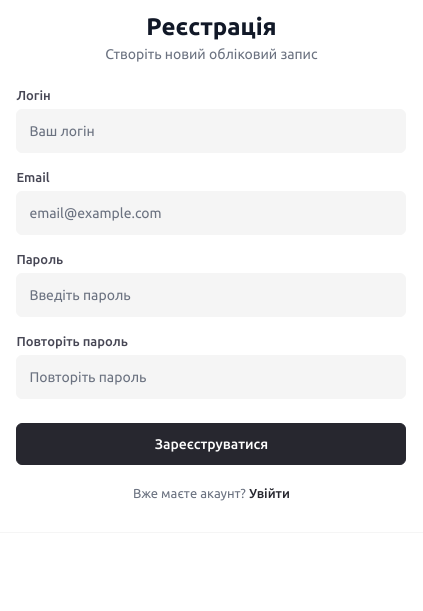
Test: Auth integration › Registration: не реєструє користувача із зайнятим логіном
In the field labelled "Логін": point(211, 131) left=16, top=109, right=406, bottom=153, type "testuser"
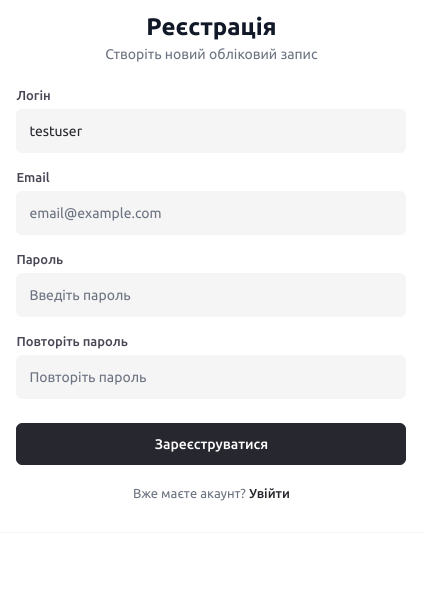
In the field labelled "Email": point(211, 213) left=16, top=191, right=406, bottom=235, type "test@example.com"
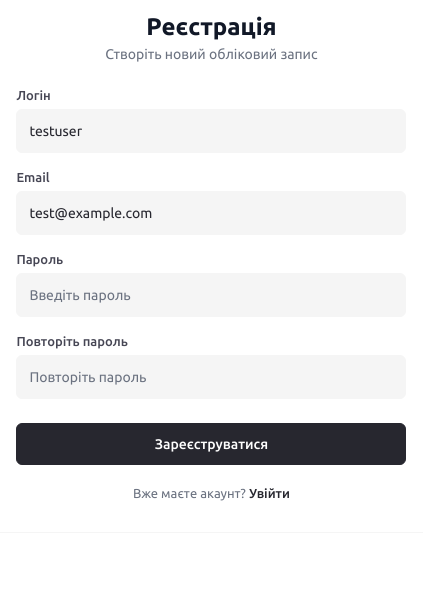
In the password field labelled "Пароль": point(211, 295) left=16, top=273, right=406, bottom=317, type "Password123"
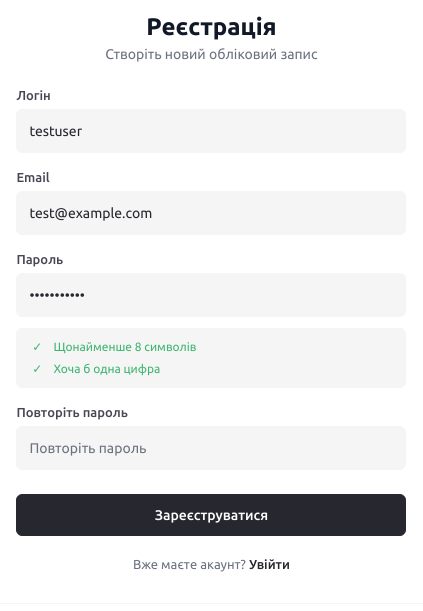
In the password field labelled "Повторіть пароль": point(211, 448) left=16, top=426, right=406, bottom=470, type "Password123"
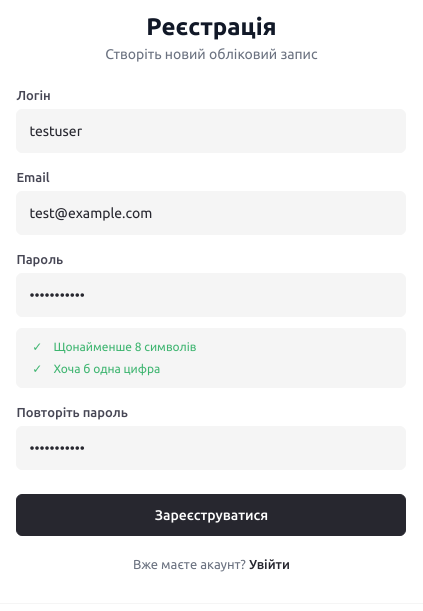
Click the button "Зареєструватися": point(211, 515) left=16, top=494, right=406, bottom=536
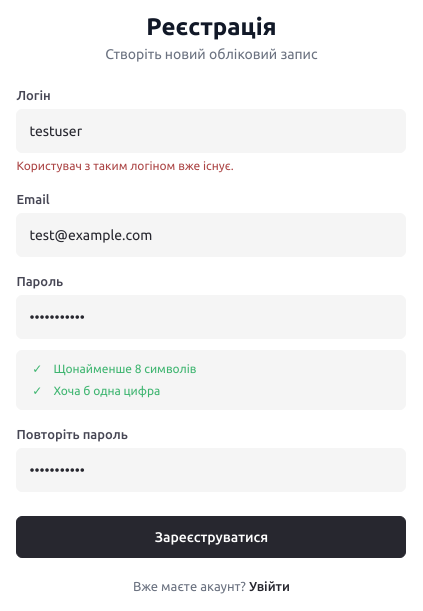
Expected: the button "Зареєструватися" is enabled, left=16, top=516, right=406, bottom=558
Expected: the text "Користувач з таким логіном вже існує." is shown, left=16, top=159, right=234, bottom=172
